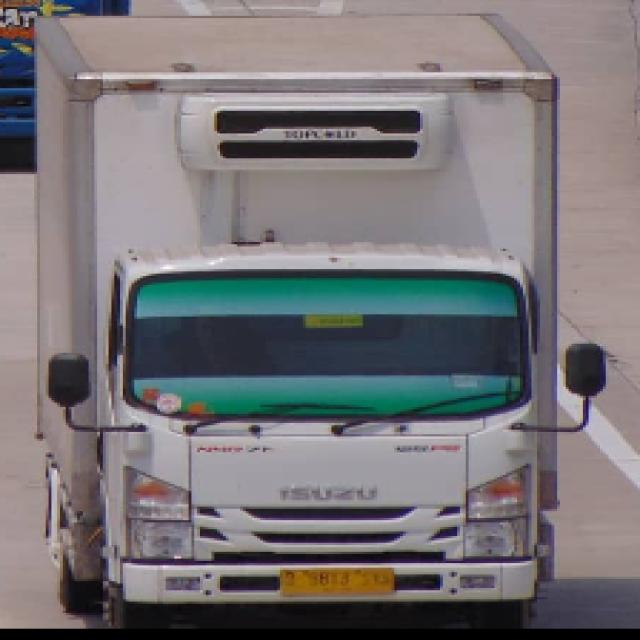Truck: (23, 13, 624, 624)
